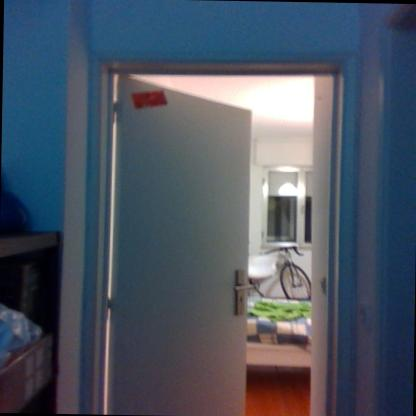semi: (89, 55, 342, 416)
